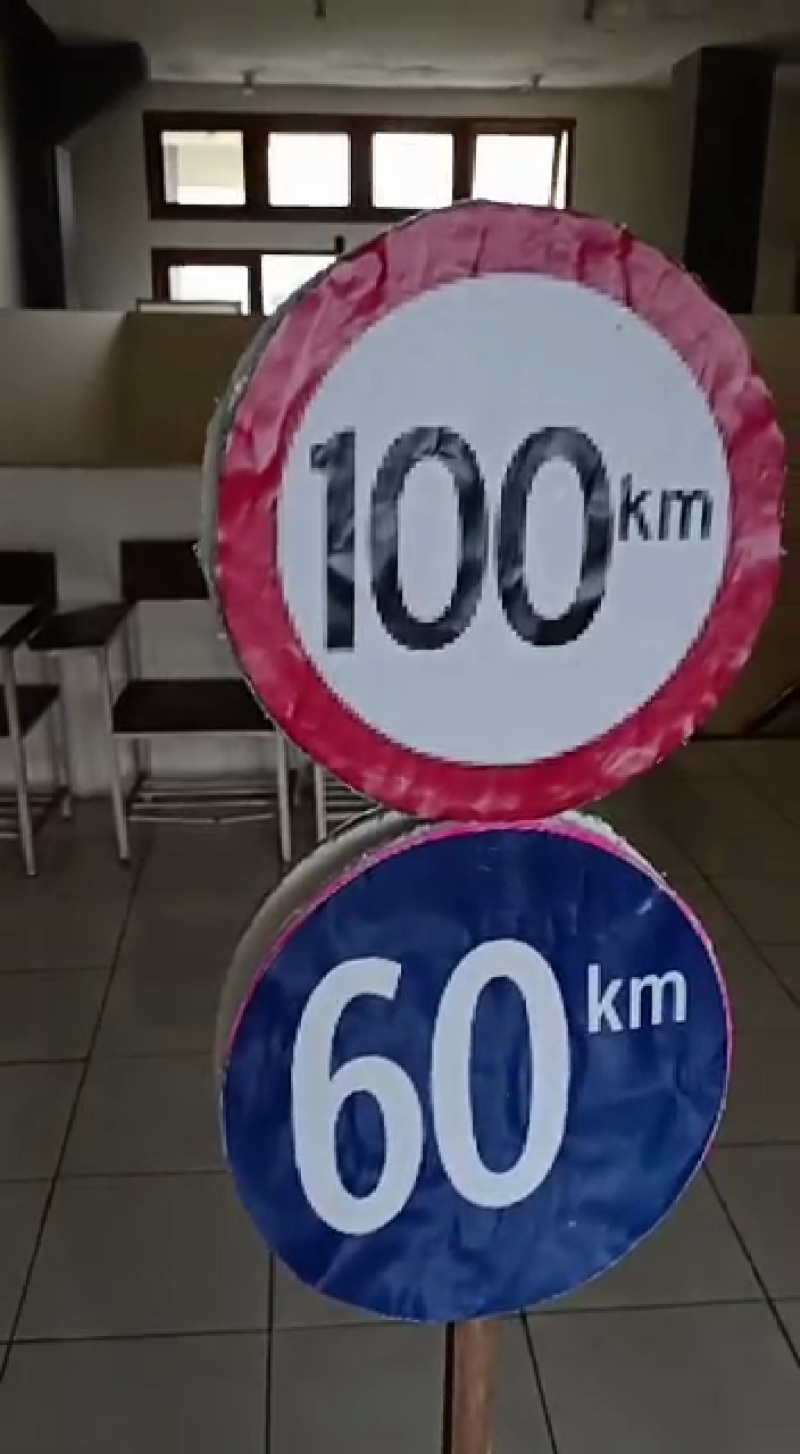batas maksimal 100kmperjam minimal 60kmperjam: (189, 169, 800, 1338)
